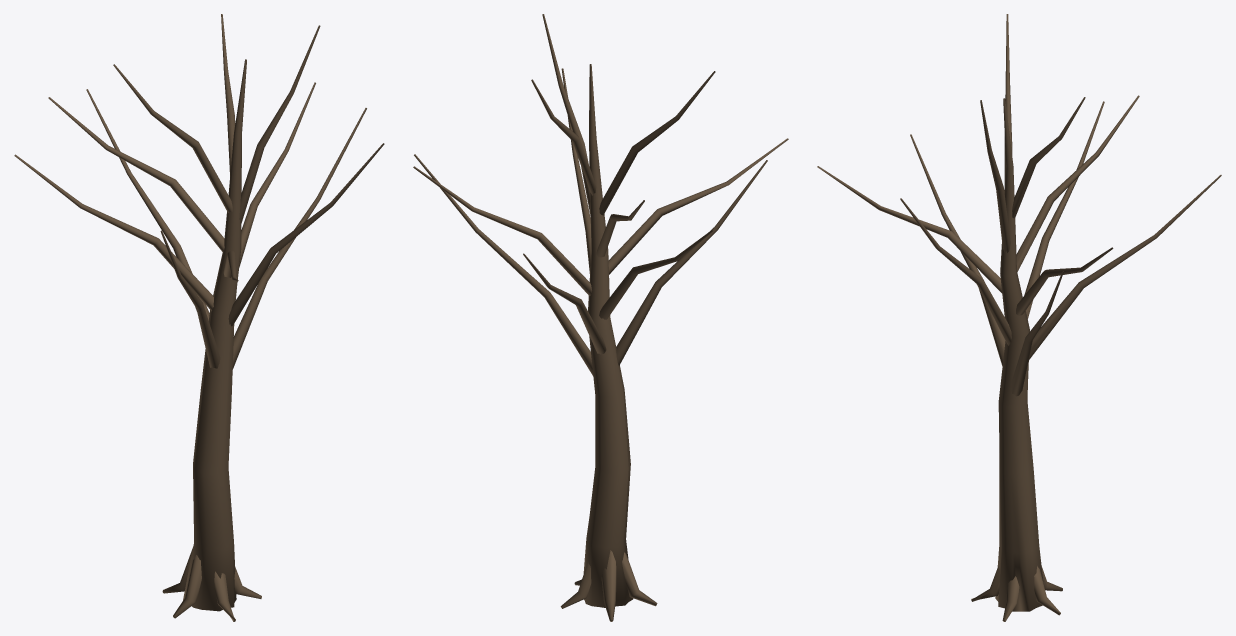
File: s99-tree-tree_bark.glb
3 views of the same model, side by side, from view 1: azimuth 30°, elevation 25°; view 2: azimuth 150°, elevation 25°; view 3: azimuth 270°, elevation 25° (orthographic). The views are drawn at different scales.
Parts seen in each view (by area): view 1: s97_source_tree_bark_mesh_model:0; view 2: s97_source_tree_bark_mesh_model:0; view 3: s97_source_tree_bark_mesh_model:0.
Part boxes in pixels (x1,y1,x2,y2): s97_source_tree_bark_mesh_model:0: (14,14,384,621); s97_source_tree_bark_mesh_model:0: (413,14,788,621); s97_source_tree_bark_mesh_model:0: (817,14,1221,621).
Size of the model in its own units: 2.58 by 4.25 by 2.87.
1 material, 1 textured.
